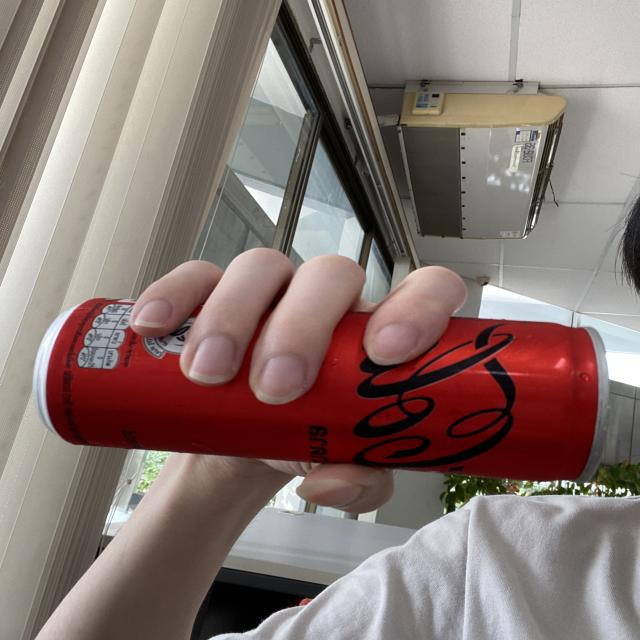can: (30, 295, 610, 486)
